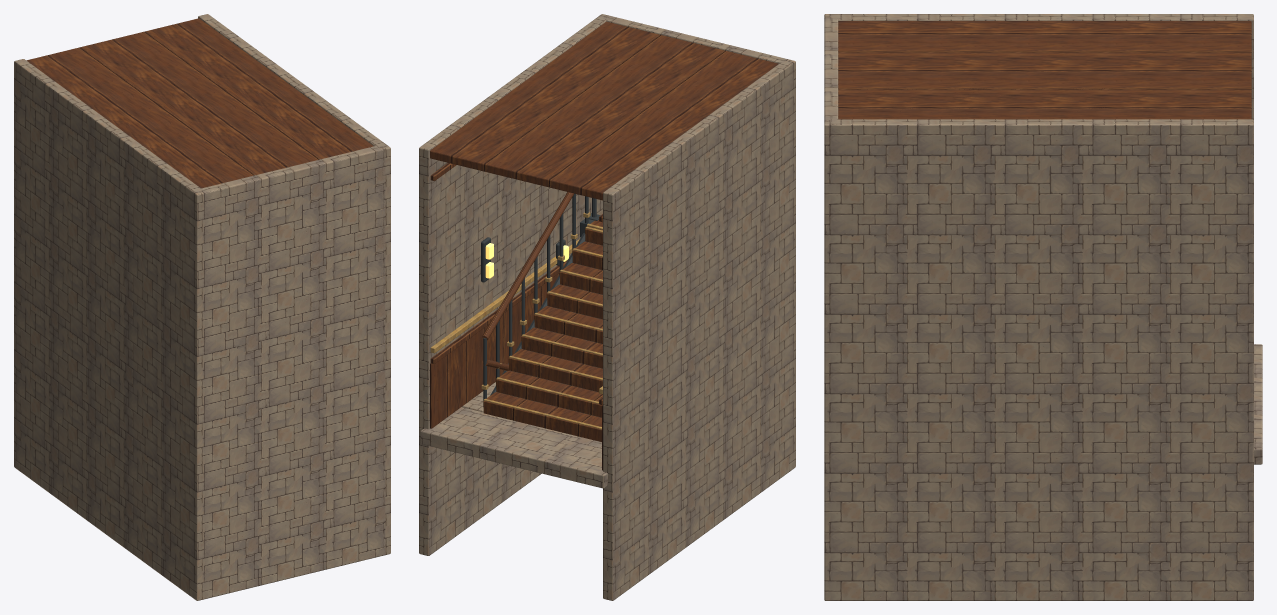
Rendered from stairwell.glb.
3 views of the same model, side by side, from view 1: azimuth 30°, elevation 25°; view 2: azimuth 150°, elevation 25°; view 3: azimuth 270°, elevation 25° (orthographic). The views are drawn at different scales.
Visible parts, largest first — view 1: StairDown Stairwell stone, StairUp Stairwell walnut, StairDown Stairwell walnut; view 2: StairDown Stairwell stone, StairUp Stairwell walnut, StairDown Stairwell walnut, StairUp Stairwell aged brass, StairUp Stairwell dark iron, StairDown Stairwell aged brass; view 3: StairDown Stairwell stone, StairUp Stairwell walnut.
Part boxes in pixels (<box>): StairDown Stairwell stone: <box>14,14,390,600</box>; StairUp Stairwell walnut: <box>26,18,368,186</box>; StairDown Stairwell walnut: <box>69,22,373,188</box>; StairDown Stairwell stone: <box>419,14,795,600</box>; StairUp Stairwell walnut: <box>430,21,778,469</box>; StairDown Stairwell walnut: <box>430,87,745,470</box>; StairUp Stairwell aged brass: <box>434,212,602,429</box>; StairUp Stairwell dark iron: <box>481,193,600,406</box>; StairDown Stairwell aged brass: <box>430,239,602,394</box>; StairDown Stairwell stone: <box>824,14,1262,600</box>; StairUp Stairwell walnut: <box>838,21,1251,119</box>.
Bounding box in the file's own units: 3 × 6 × 5.
Materials: 6 (3 with a texture image).
